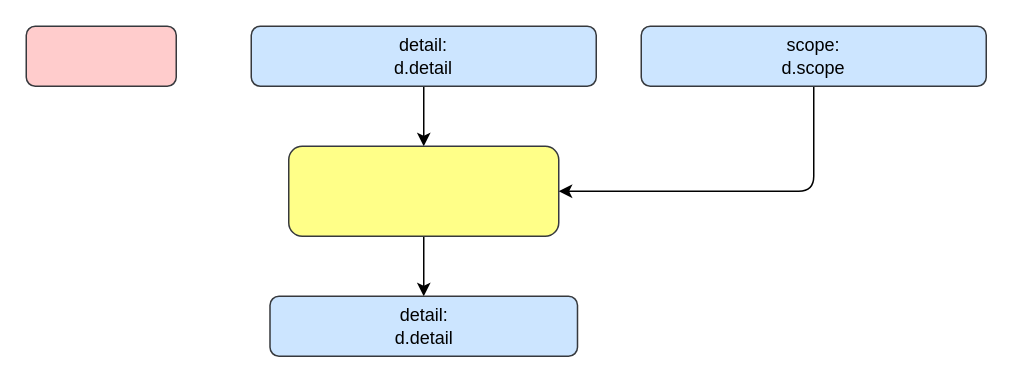
Image size: 1013x383. Some labels were removed from this diagram. The box of each missing label's shape, as (x1, y1, x2, y2) in pixels:
localFiles1.randomerror timeout:8: (287, 145, 559, 236)
type:flux: (25, 25, 176, 86)
